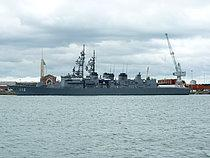MIL_Ship: (6, 44, 192, 95)
